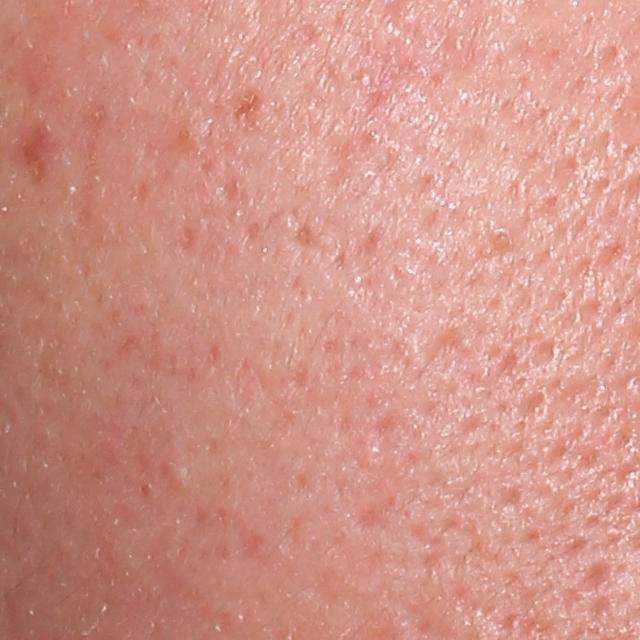atrophic_scar: (12, 121, 50, 191), (591, 236, 636, 283), (577, 551, 620, 593), (423, 325, 463, 363), (348, 496, 383, 534), (290, 219, 324, 258)
comedo: (158, 456, 196, 488), (487, 226, 517, 255)
